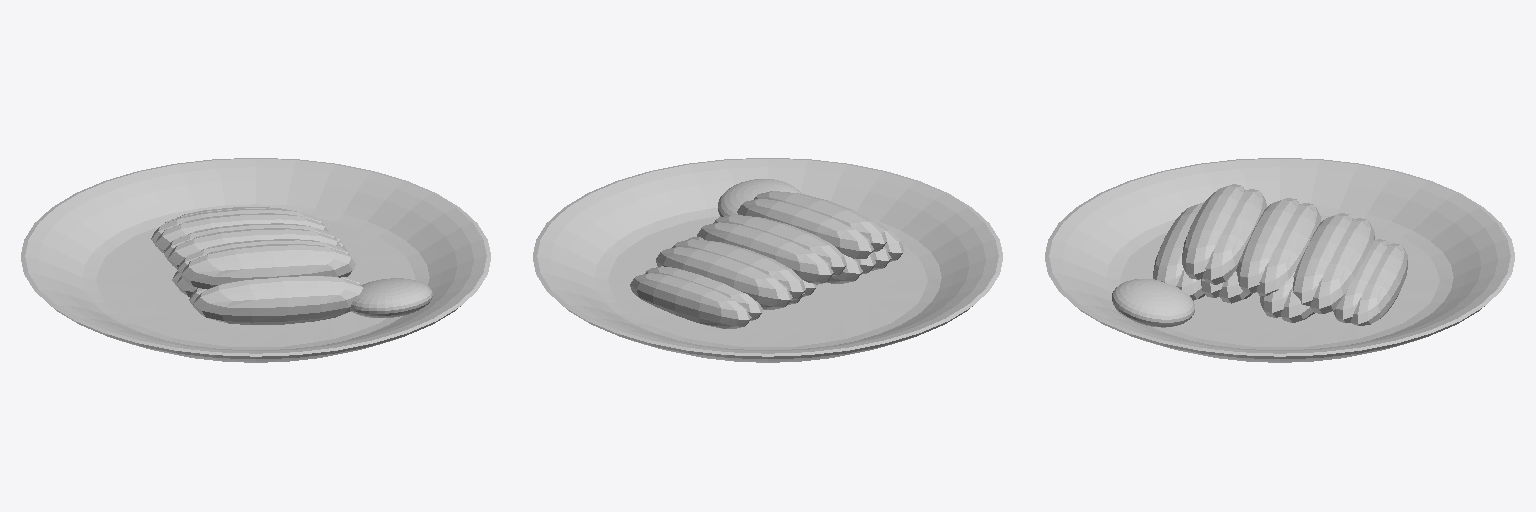
File: cakue mang oleh.obj
The picture shows the model from 3 angles: view 1: azimuth 30°, elevation 25°; view 2: azimuth 150°, elevation 25°; view 3: azimuth 270°, elevation 25°; orthographic projection.
Visible parts, largest first — view 1: Cylinder, Cube.008_Cube.009, Cube.014_Cube.017, Sphere_Sphere.001, Cube.010_Cube.013, Cube.012_Cube.015, Cube.011_Cube.014, Cube.009_Cube.012, Cube.013_Cube.016; view 2: Cylinder, Cube.005_Cube.006, Cube.011_Cube.014, Cube.009_Cube.012, Cube.013_Cube.016, Cube.014_Cube.017, Cube.010_Cube.013, Cube.012_Cube.015, Sphere_Sphere.001, Cube.006_Cube.007; view 3: Cylinder, Sphere_Sphere.001, Cube.014_Cube.017, Cube.011_Cube.014, Cube.013_Cube.016, Cube.010_Cube.013, Cube.009_Cube.012, Cube.005_Cube.006, Cube.012_Cube.015, Cube.008_Cube.009, Cube.006_Cube.007, Cube.004_Cube.005 (+2 smaller).
Part boxes in pixels (x1,y1,x2,y2): Cylinder: (21,158,490,362); Cube.008_Cube.009: (193,276,363,324); Cube.014_Cube.017: (181,244,355,288); Sphere_Sphere.001: (350,278,432,317); Cube.010_Cube.013: (168,228,341,268); Cube.012_Cube.015: (155,213,328,252); Cube.011_Cube.014: (151,208,324,246); Cube.009_Cube.012: (164,223,336,261); Cube.013_Cube.016: (177,239,349,276); Cylinder: (533,158,1002,362); Cube.005_Cube.006: (630,273,751,328); Cube.011_Cube.014: (656,247,792,309); Cube.009_Cube.012: (697,222,833,284); Cube.013_Cube.016: (737,199,873,258); Cube.014_Cube.017: (754,191,886,252); Cube.010_Cube.013: (713,215,846,275); Cube.012_Cube.015: (672,239,805,300); Sphere_Sphere.001: (718,179,801,216); Cube.006_Cube.007: (645,266,762,320); Cylinder: (1045,158,1514,362); Sphere_Sphere.001: (1112,279,1194,327); Cube.014_Cube.017: (1182,184,1245,279); Cube.011_Cube.014: (1310,218,1374,313); Cube.013_Cube.016: (1202,189,1266,284); Cube.010_Cube.013: (1236,198,1299,293); Cube.009_Cube.012: (1256,203,1320,296); Cube.005_Cube.006: (1351,243,1407,325); Cube.012_Cube.015: (1293,213,1353,305); Cube.008_Cube.009: (1153,202,1204,285); Cube.006_Cube.007: (1333,239,1388,322); Cube.004_Cube.005: (1260,272,1294,317).
Bounding box in the file's own units: 2.31 × 0.3961 × 2.31.